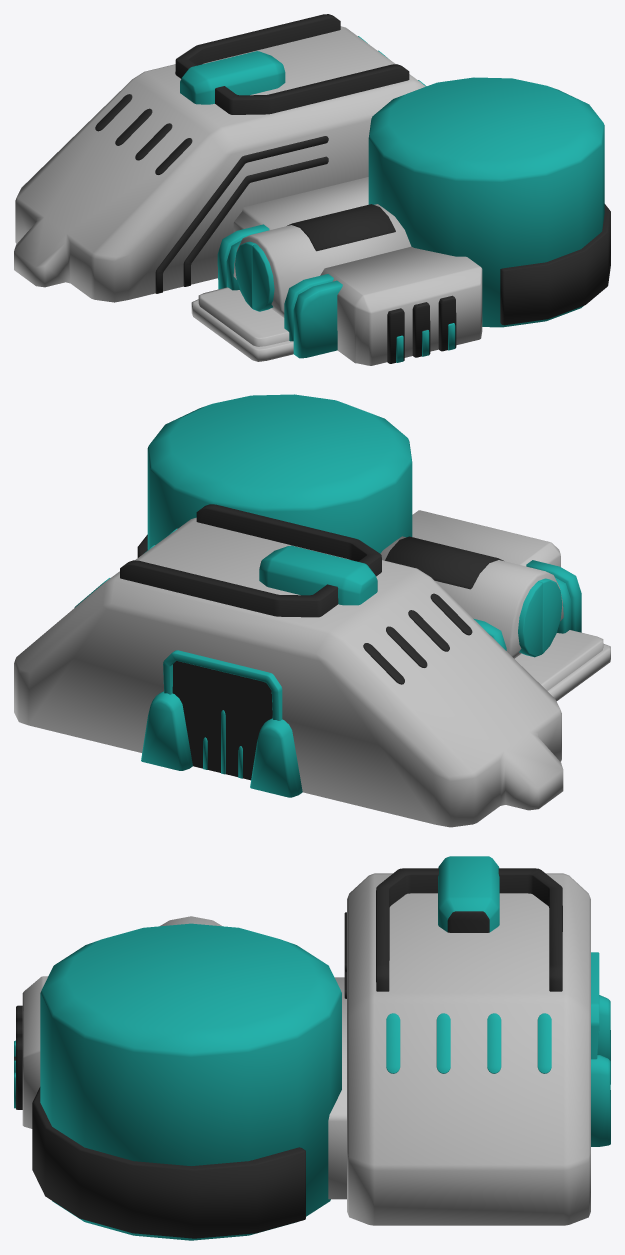
3 views of the same model, one above another, from view 1: azimuth 30°, elevation 25°; view 2: azimuth 150°, elevation 25°; view 3: azimuth 270°, elevation 25° (orthographic). The views are drawn at different scales.
Parts seen in each view (by area): view 1: Machine_building_plant.004; view 2: Machine_building_plant.004; view 3: Machine_building_plant.004.
Boxes of the visible parts, x1=… form: Machine_building_plant.004: x1=14, y1=14, x2=610, y2=365; Machine_building_plant.004: x1=14, y1=394, x2=610, y2=827; Machine_building_plant.004: x1=14, y1=856, x2=610, y2=1240.
Bounding box in the file's own units: 21.54 × 7.46 × 19.1.
